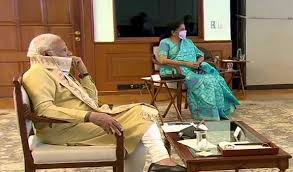Good: (23, 22, 229, 137)
